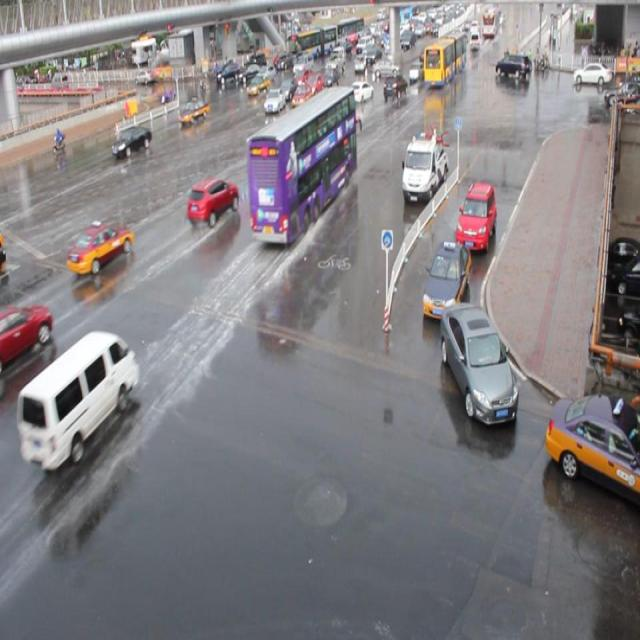bus: (401, 132, 447, 202)
car: (543, 393, 640, 508), (438, 300, 516, 424), (421, 238, 471, 319), (66, 218, 133, 276), (0, 300, 52, 366), (454, 180, 496, 253), (186, 176, 239, 226), (112, 125, 152, 156), (265, 113, 295, 148), (178, 97, 209, 125), (382, 73, 407, 100), (263, 88, 285, 114), (349, 80, 373, 103), (291, 82, 312, 108), (246, 73, 269, 96), (280, 77, 298, 100), (306, 74, 324, 97), (292, 68, 310, 88)
truck: (17, 328, 138, 469)
van: (246, 84, 357, 243)
